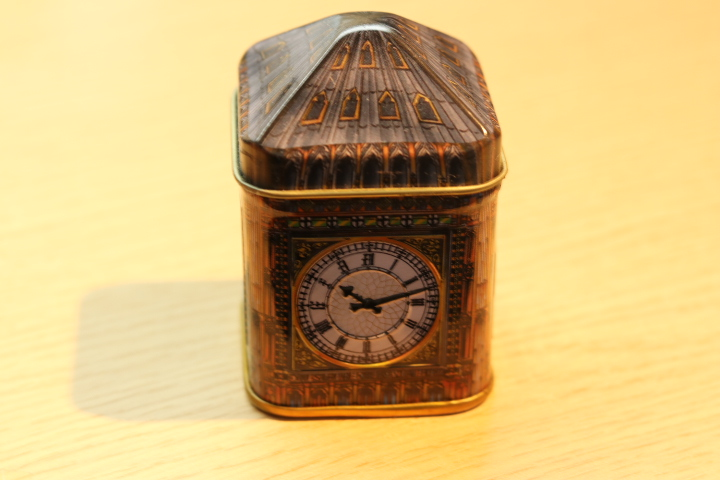Big Ben: (210, 8, 511, 429)
